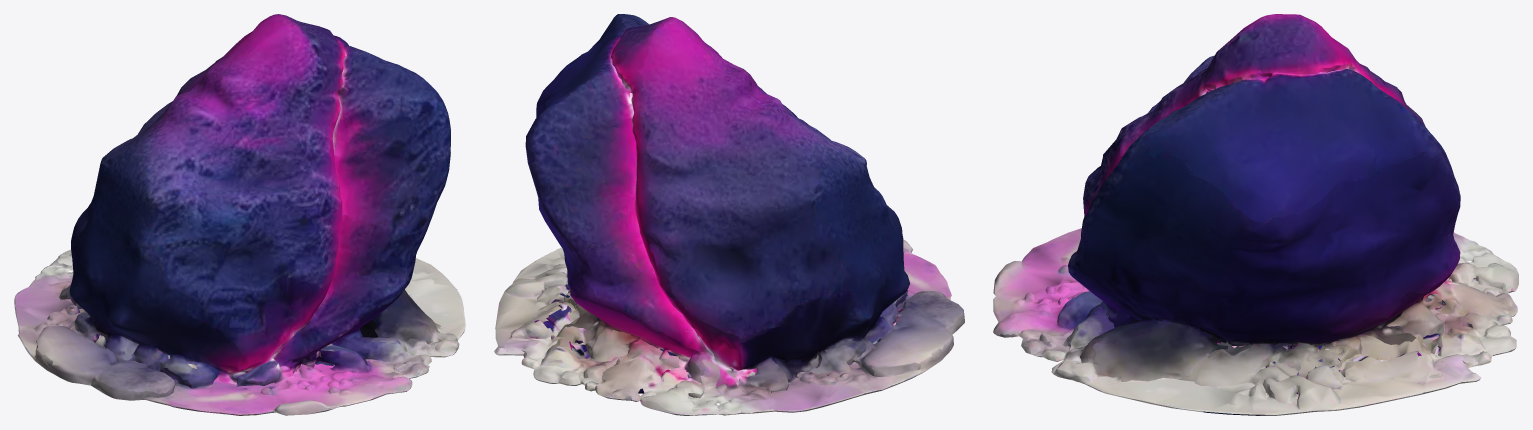
The model's file is shore-stone-10-generated-2026-05-17T20-19-38-041Z.low.glb.
3 views of the same model, side by side, from view 1: azimuth 30°, elevation 25°; view 2: azimuth 150°, elevation 25°; view 3: azimuth 270°, elevation 25° (orthographic). The views are drawn at different scales.
Visible parts, largest first — view 1: temp_mesh.ply; view 2: temp_mesh.ply; view 3: temp_mesh.ply.
Boxes of the visible parts, <box> form: temp_mesh.ply: <box>14,14,465,415</box>; temp_mesh.ply: <box>494,14,964,415</box>; temp_mesh.ply: <box>993,14,1518,415</box>.
Size of the model in its own units: 1.97 by 1.33 by 1.97.
Materials: 1 (1 with a texture image).
